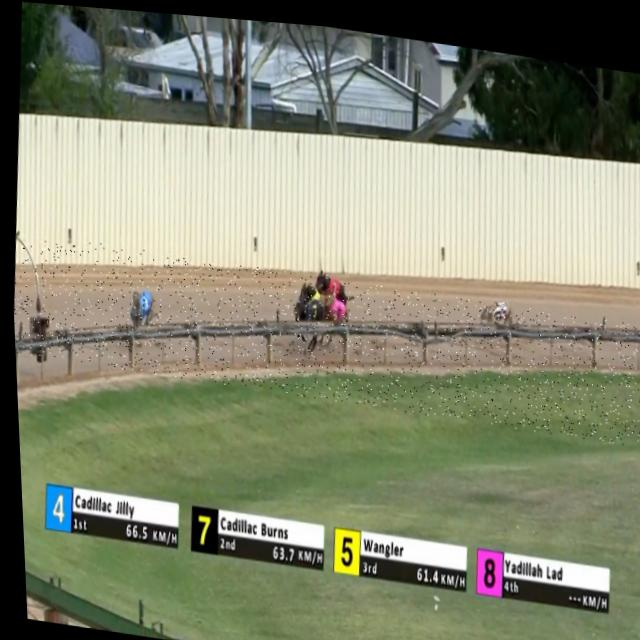dog_eight: (328, 294, 342, 317)
dog_five: (309, 284, 320, 299)
dog_four: (135, 289, 151, 318)
dog_one: (325, 273, 337, 294)
dog_seven: (305, 296, 319, 318)
dog_two: (491, 293, 503, 316)
rail: (12, 315, 640, 352)
